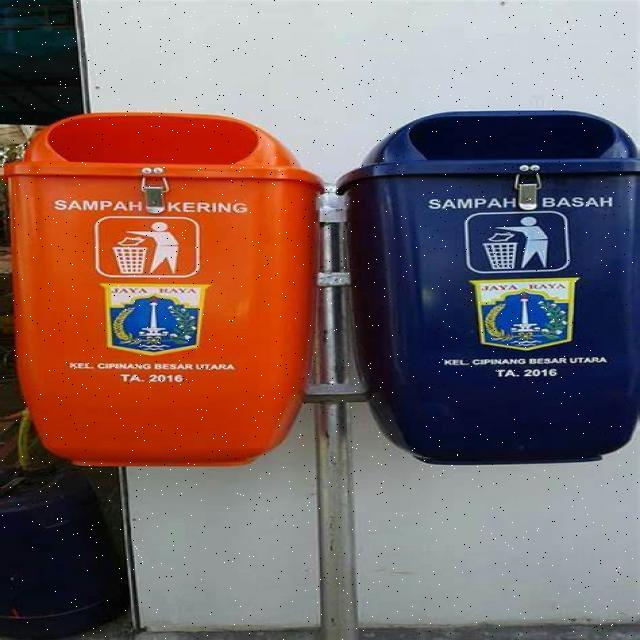garbage container: (0, 85, 344, 481), (337, 91, 640, 469)
